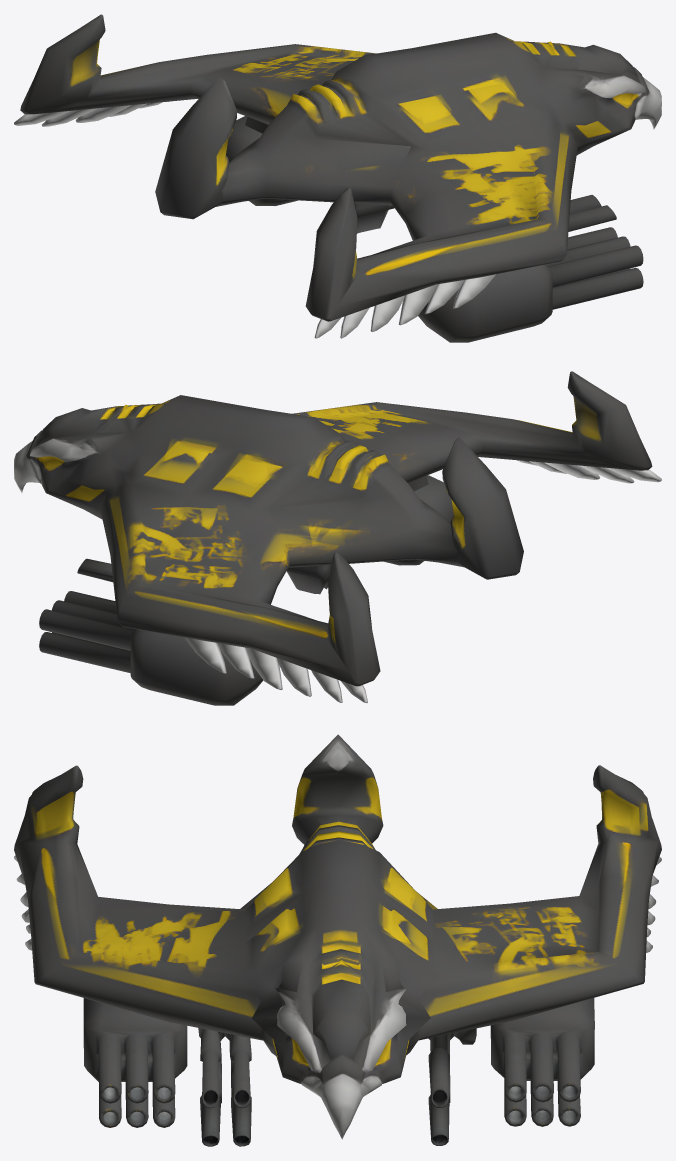
File: skai_thunderhead.glb
3 views of the same model, one above another, from view 1: azimuth 30°, elevation 25°; view 2: azimuth 150°, elevation 25°; view 3: azimuth 270°, elevation 25° (orthographic). The views are drawn at different scales.
Parts seen in each view (by area): view 1: tripo_node_ca4ed768-6acb-4f2e-8000-8cbb01821603; view 2: tripo_node_ca4ed768-6acb-4f2e-8000-8cbb01821603; view 3: tripo_node_ca4ed768-6acb-4f2e-8000-8cbb01821603.
Part boxes in pixels (<box>): tripo_node_ca4ed768-6acb-4f2e-8000-8cbb01821603: <box>14,14,661,342</box>; tripo_node_ca4ed768-6acb-4f2e-8000-8cbb01821603: <box>14,371,661,705</box>; tripo_node_ca4ed768-6acb-4f2e-8000-8cbb01821603: <box>14,734,661,1146</box>.
Bounding box in the file's own units: 0.9712 × 0.4409 × 0.9995.
1 material, 1 textured.
